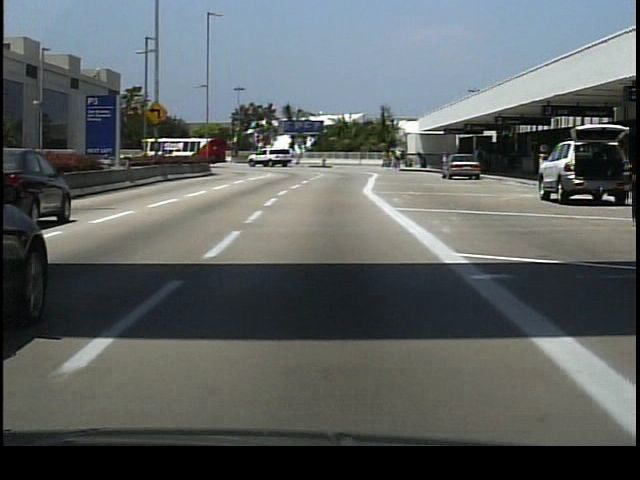person: (473, 149, 489, 179), (393, 147, 403, 174)
